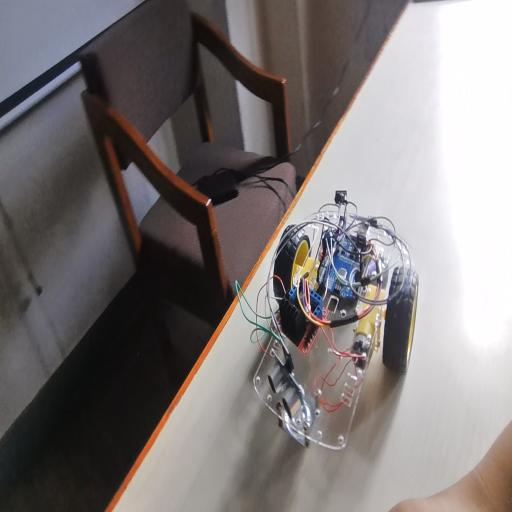car: (266, 202, 405, 423)
